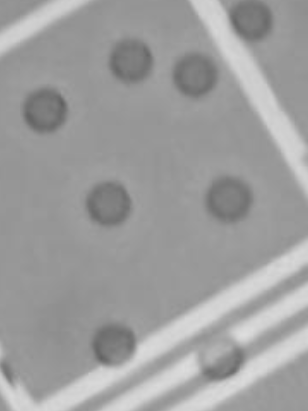cell: (81, 314, 146, 374), (187, 323, 246, 383), (198, 168, 257, 227), (16, 78, 72, 138), (80, 173, 136, 231), (103, 32, 158, 89), (166, 45, 221, 98), (224, 1, 279, 47)
